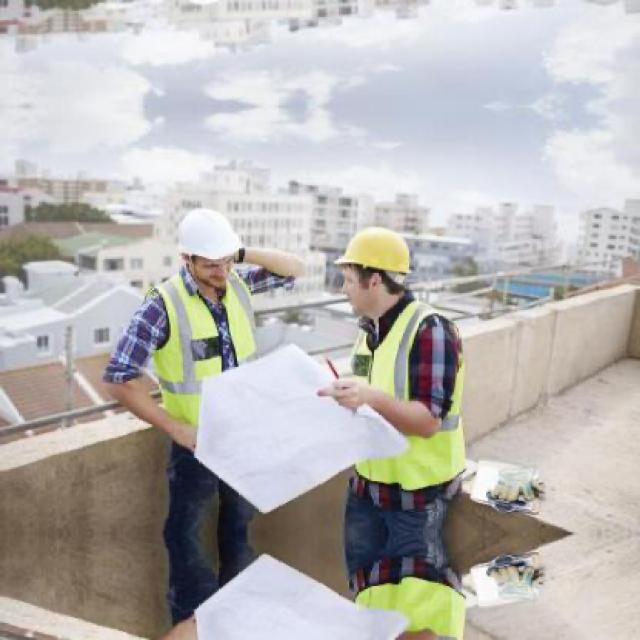helmet: (326, 221, 414, 313), (169, 202, 249, 293)
